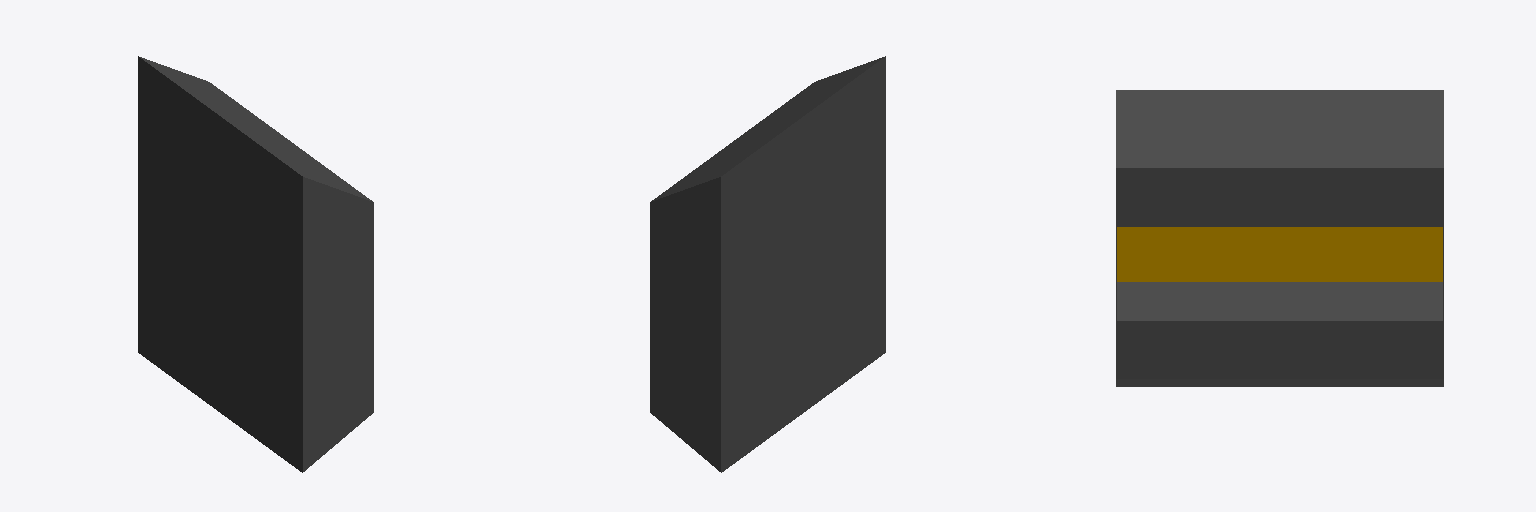
Rendered from kitkat_emissive.obj.
3 renders of one model, left to right at view 1: azimuth 30°, elevation 25°; view 2: azimuth 150°, elevation 25°; view 3: azimuth 270°, elevation 25°, orthographic.
Parts seen in each view (by area): view 1: kitkat_emissive; view 2: kitkat_emissive; view 3: kitkat_emissive.
Boxes of the visible parts, <box> form: kitkat_emissive: <box>138,56,373,472</box>; kitkat_emissive: <box>650,56,885,472</box>; kitkat_emissive: <box>1116,90,1443,386</box>.
Bounding box in the file's own units: 0.5 × 1.99 × 2.